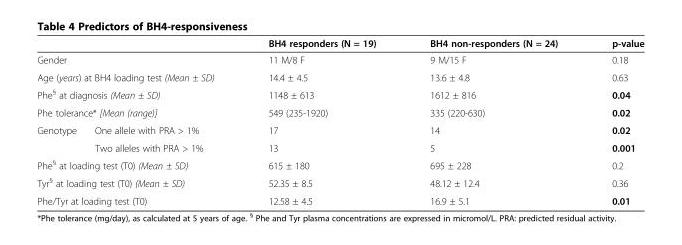table: (36, 37, 643, 206)
table column: (36, 37, 240, 206), (402, 37, 584, 206), (240, 37, 402, 206), (584, 37, 643, 206)
table column header: (36, 37, 643, 51)
table row: (36, 85, 643, 103), (36, 103, 643, 121), (36, 155, 643, 173), (36, 173, 643, 191), (36, 51, 643, 68), (36, 68, 643, 85), (36, 121, 643, 138), (36, 138, 643, 155), (36, 191, 643, 206), (36, 37, 643, 51)
